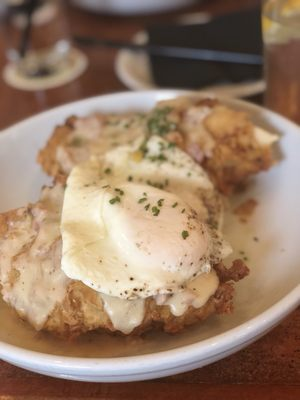sushi: (0, 68, 300, 387)
